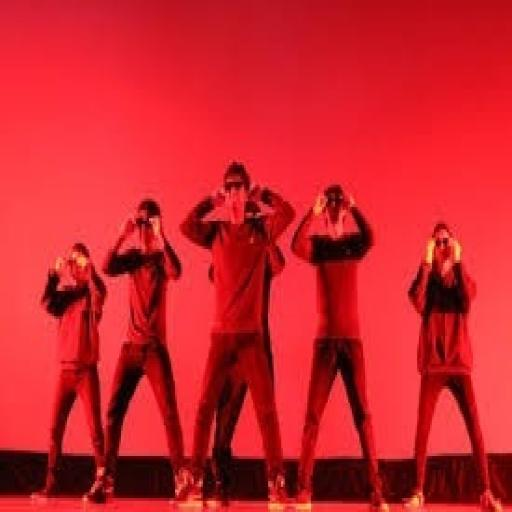dancing: (177, 157, 296, 509), (289, 179, 391, 509), (90, 193, 196, 506), (400, 218, 505, 509), (32, 238, 112, 506)
